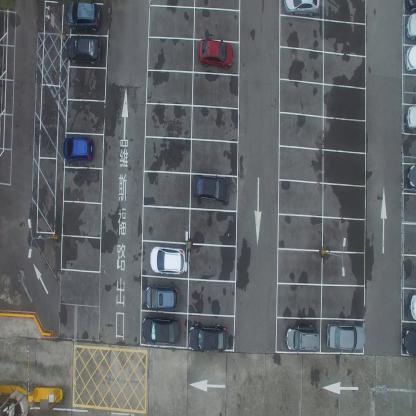car: (198, 36, 234, 70), (149, 244, 187, 276), (326, 322, 366, 352), (192, 172, 229, 204), (189, 322, 227, 352), (66, 0, 101, 32), (142, 314, 179, 344), (66, 36, 102, 66), (62, 132, 94, 164), (286, 324, 320, 352), (145, 283, 179, 310), (282, 0, 321, 16), (401, 326, 416, 356), (404, 12, 416, 41), (405, 43, 415, 75), (406, 162, 416, 192), (406, 103, 416, 132), (409, 292, 416, 321)
